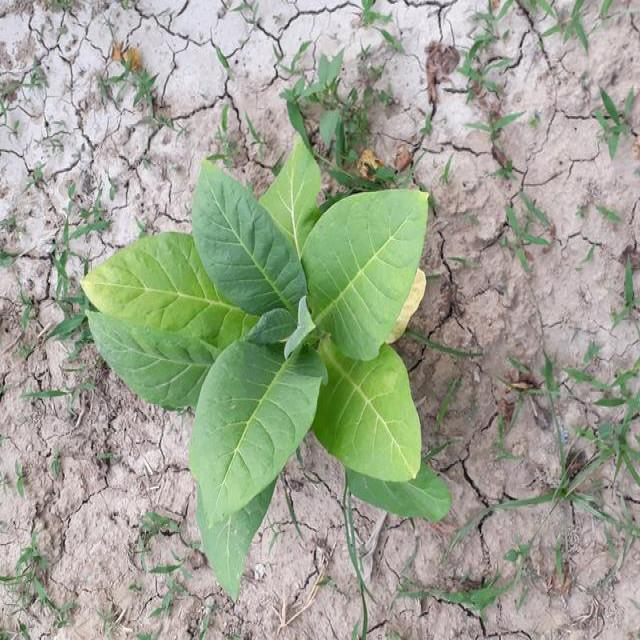crop: (84, 132, 456, 597)
